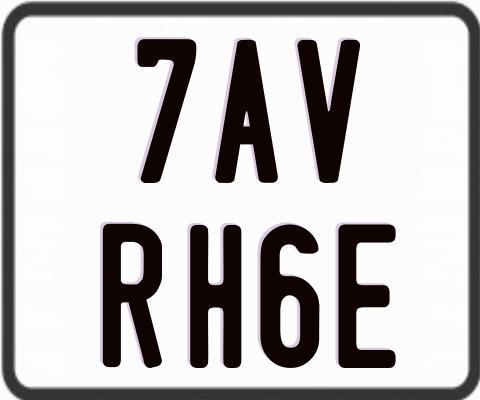6: (257, 223, 322, 370)
7: (136, 39, 201, 185)
A: (213, 38, 278, 184)
E: (338, 224, 397, 369)
H: (189, 222, 246, 366)
R: (101, 222, 164, 372)
V: (295, 37, 358, 185)
